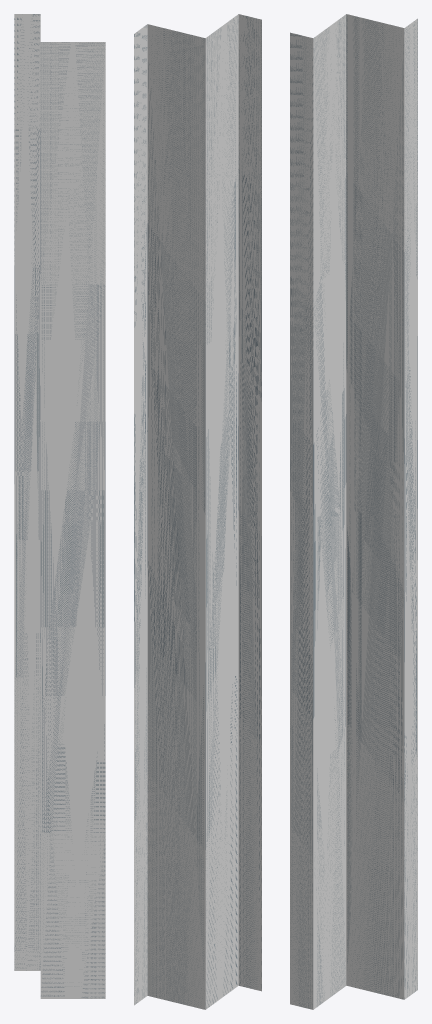
Rendered from PW_CornerFixElem_os_T3_035x035x010x400.dae.
The picture shows the model from 3 angles, left to right: view 1: azimuth 90°, elevation 25°; view 2: azimuth 150°, elevation 25°; view 3: azimuth 330°, elevation 25°; orthographic projection.
Visible parts, largest first — view 1: group_0; view 2: group_0; view 3: group_0.
Part boxes in pixels (x1=…): group_0: x1=14, y1=14, x2=105, y2=998; group_0: x1=134, y1=14, x2=261, y2=1009; group_0: x1=290, y1=14, x2=417, y2=1009.
Bounding box in the file's own units: 13.78 × 13.67 × 157.
